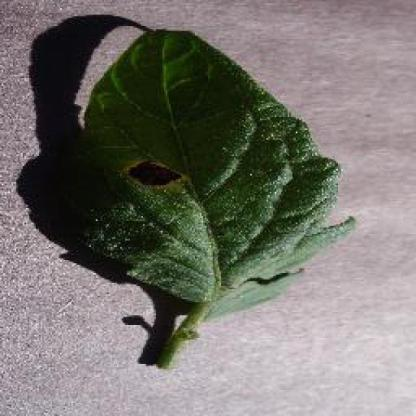Tomato_Blight: (69, 31, 354, 300)
